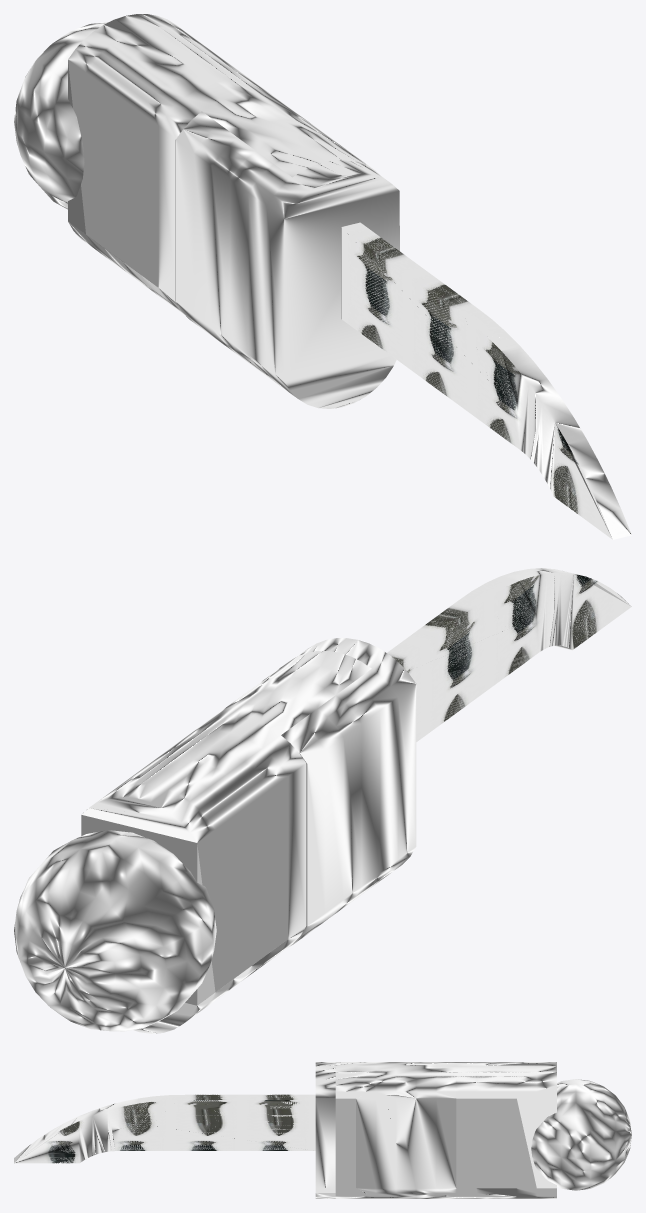
Rendered from model_align.obj.
The picture shows the model from 3 angles, top to bottom: view 1: azimuth 30°, elevation 25°; view 2: azimuth 150°, elevation 25°; view 3: azimuth 270°, elevation 25°; orthographic projection. The views are drawn at different scales.
Bounding box in the file's own units: 0.0357 × 0.0454 × 0.1971.
